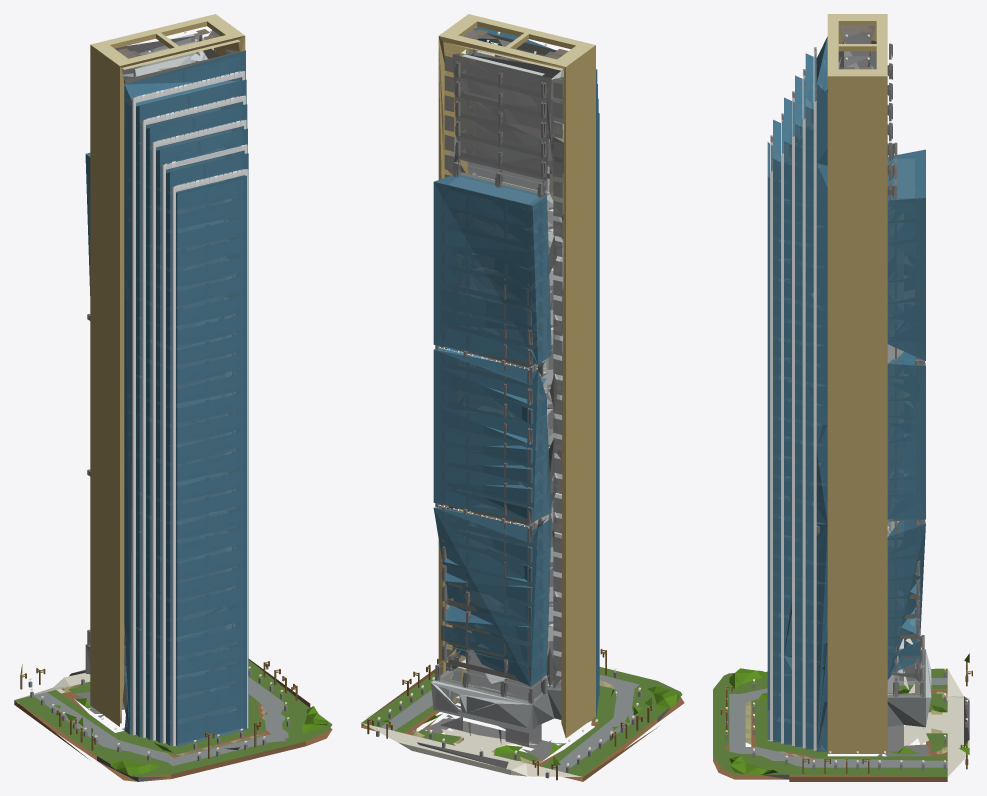
The picture shows the model from 3 angles, left to right: view 1: azimuth 30°, elevation 25°; view 2: azimuth 150°, elevation 25°; view 3: azimuth 270°, elevation 25°; orthographic projection.
Parts seen in each view (by area): view 1: Object_4, Object_3, Object_25, Object_9, Object_14, Object_19, Object_28, Object_31, Object_12, Object_8, Object_23, Object_13 (+1 smaller); view 2: Object_4, Object_3, Object_32, Object_23, Object_28, Object_9, Object_14, Object_11, Object_16, Object_19, Object_21, Object_12 (+2 smaller); view 3: Object_4, Object_3, Object_25, Object_9, Object_14, Object_28, Object_16, Object_19, Object_12, Object_23, Object_31, Object_21 (+4 smaller).
Part boxes in pixels (x1=…): Object_4: x1=85, y1=50, x2=248, y2=746; Object_3: x1=90, y1=21, x2=245, y2=726; Object_25: x1=132, y1=70, x2=248, y2=746; Object_9: x1=15, y1=660, x2=332, y2=776; Object_14: x1=34, y1=644, x2=288, y2=765; Object_19: x1=90, y1=14, x2=244, y2=69; Object_28: x1=28, y1=30, x2=290, y2=781; Object_31: x1=19, y1=688, x2=332, y2=781; Object_12: x1=20, y1=664, x2=327, y2=774; Object_8: x1=14, y1=659, x2=310, y2=778; Object_23: x1=122, y1=41, x2=207, y2=79; Object_13: x1=20, y1=661, x2=297, y2=758; Object_4: x1=433, y1=26, x2=599, y2=720; Object_3: x1=438, y1=21, x2=595, y2=738; Object_32: x1=435, y1=54, x2=562, y2=746; Object_23: x1=431, y1=43, x2=563, y2=744; Object_28: x1=376, y1=28, x2=670, y2=778; Object_9: x1=362, y1=667, x2=682, y2=776; Object_14: x1=380, y1=662, x2=639, y2=777; Object_11: x1=441, y1=33, x2=563, y2=697; Object_16: x1=362, y1=51, x2=581, y2=776; Object_19: x1=439, y1=14, x2=595, y2=70; Object_21: x1=422, y1=39, x2=590, y2=762; Object_12: x1=368, y1=686, x2=679, y2=765; Object_4: x1=767, y1=36, x2=925, y2=751; Object_3: x1=827, y1=21, x2=887, y2=753; Object_25: x1=770, y1=47, x2=816, y2=750; Object_9: x1=713, y1=668, x2=947, y2=776; Object_14: x1=729, y1=649, x2=947, y2=767; Object_28: x1=721, y1=26, x2=968, y2=779; Object_16: x1=904, y1=638, x2=969, y2=776; Object_19: x1=827, y1=14, x2=887, y2=76; Object_12: x1=729, y1=653, x2=969, y2=774; Object_23: x1=838, y1=41, x2=931, y2=725; Object_31: x1=713, y1=689, x2=947, y2=779; Object_21: x1=844, y1=56, x2=930, y2=756.
Bounding box in the file's own units: 47 × 138 × 47.63.
